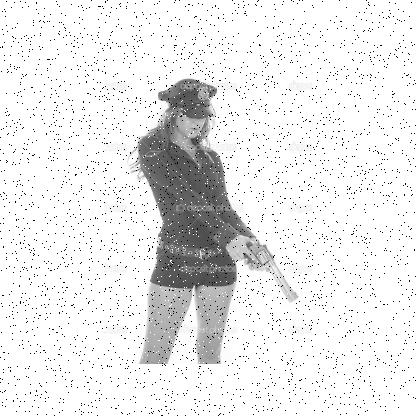gun: (225, 236, 299, 302)
